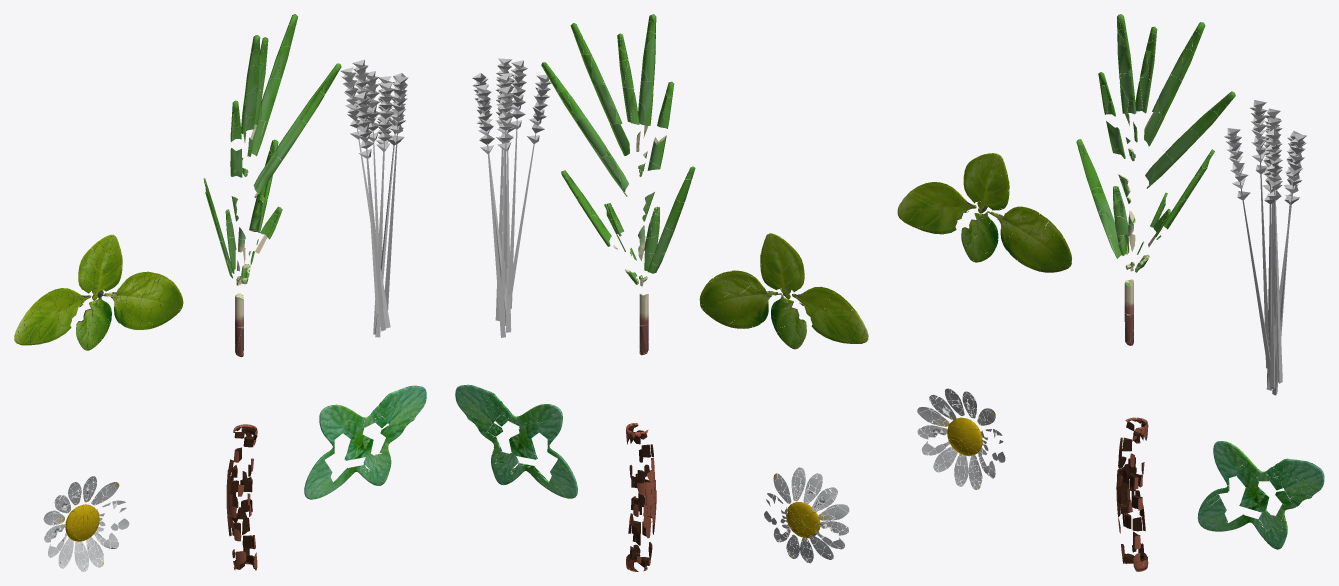
The model's file is IngredientsFracture.fbx.
3 views of the same model, side by side, from view 1: azimuth 30°, elevation 25°; view 2: azimuth 150°, elevation 25°; view 3: azimuth 330°, elevation 25° (orthographic). The views are drawn at different scales.
Visible parts, largest first — view 1: Lavender, Rosemary_cell.186; view 2: Lavender; view 3: Lavender, Rosemary_cell.186.
Part boxes in pixels (x1,y1,x2,y2): Lavender: [340, 59, 408, 337]; Rosemary_cell.186: [261, 78, 281, 121]; Lavender: [472, 58, 551, 337]; Lavender: [1224, 100, 1306, 395]; Rosemary_cell.186: [1158, 75, 1181, 116].
Size of the model in its own units: 550 by 692 by 91.41.
